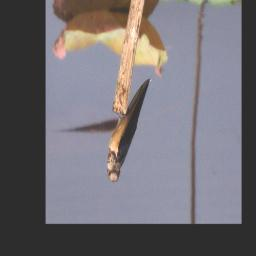Swallow: (106, 75, 151, 183)
